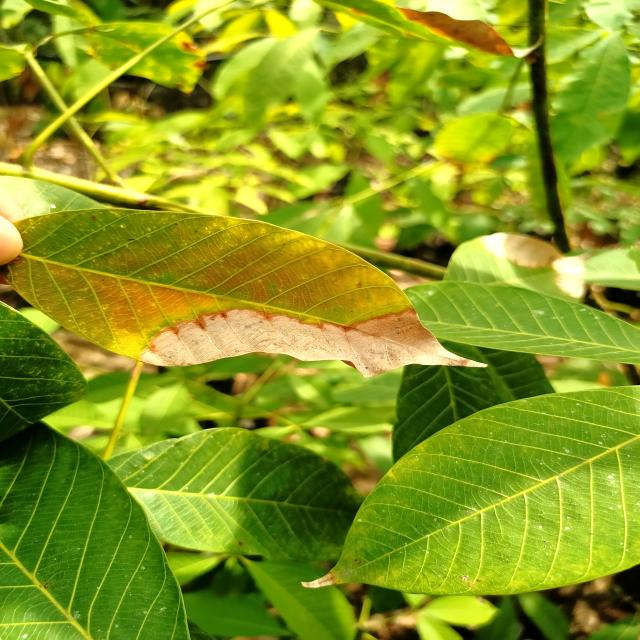Colletotrichum: (211, 318, 215, 320), (273, 343, 277, 345), (235, 350, 239, 352)
Leaf-Blight: (138, 307, 489, 379)
